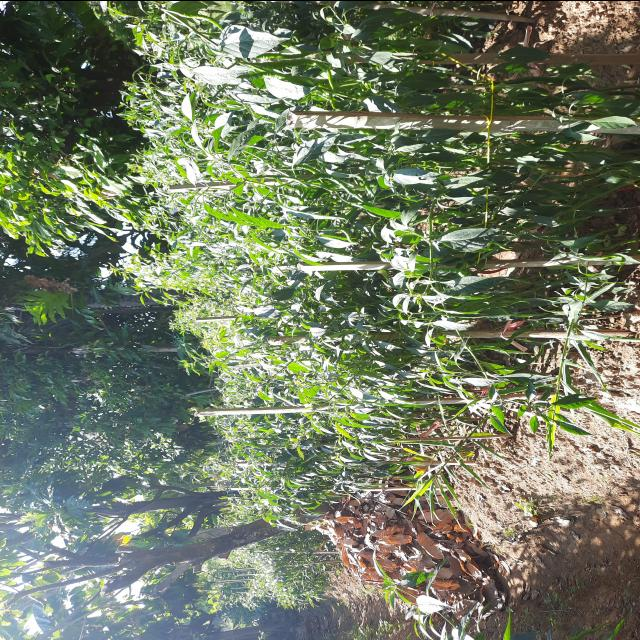sehat: (442, 225, 512, 258), (449, 276, 508, 296), (197, 66, 250, 88)
